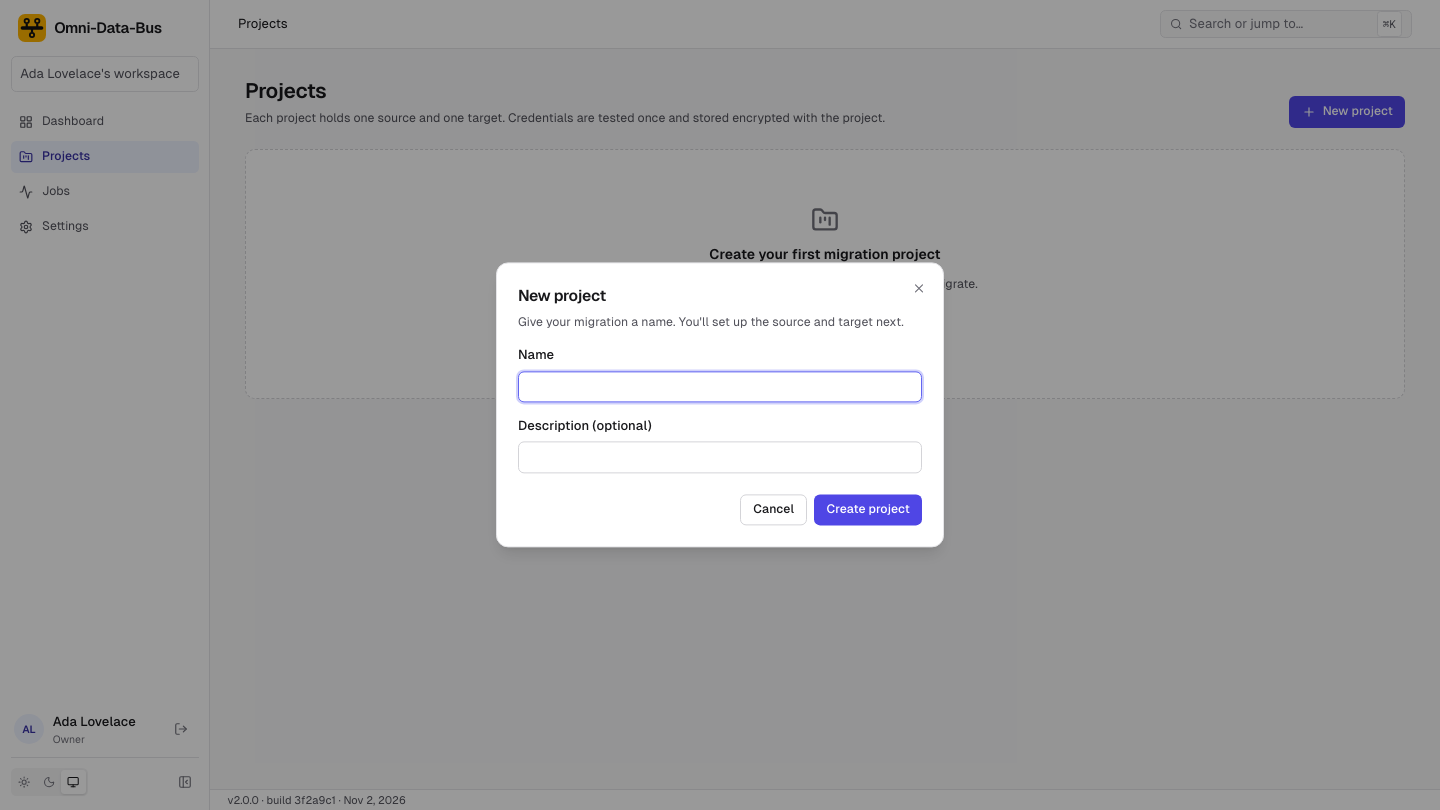
Test: NewProjectDialog › AC1: duplicate name shows the server field error
This screenshot has width=1440, height=810.
Type "Orders" into the field labelled "Name". click: (720, 387)
box: [518,371,922,402]
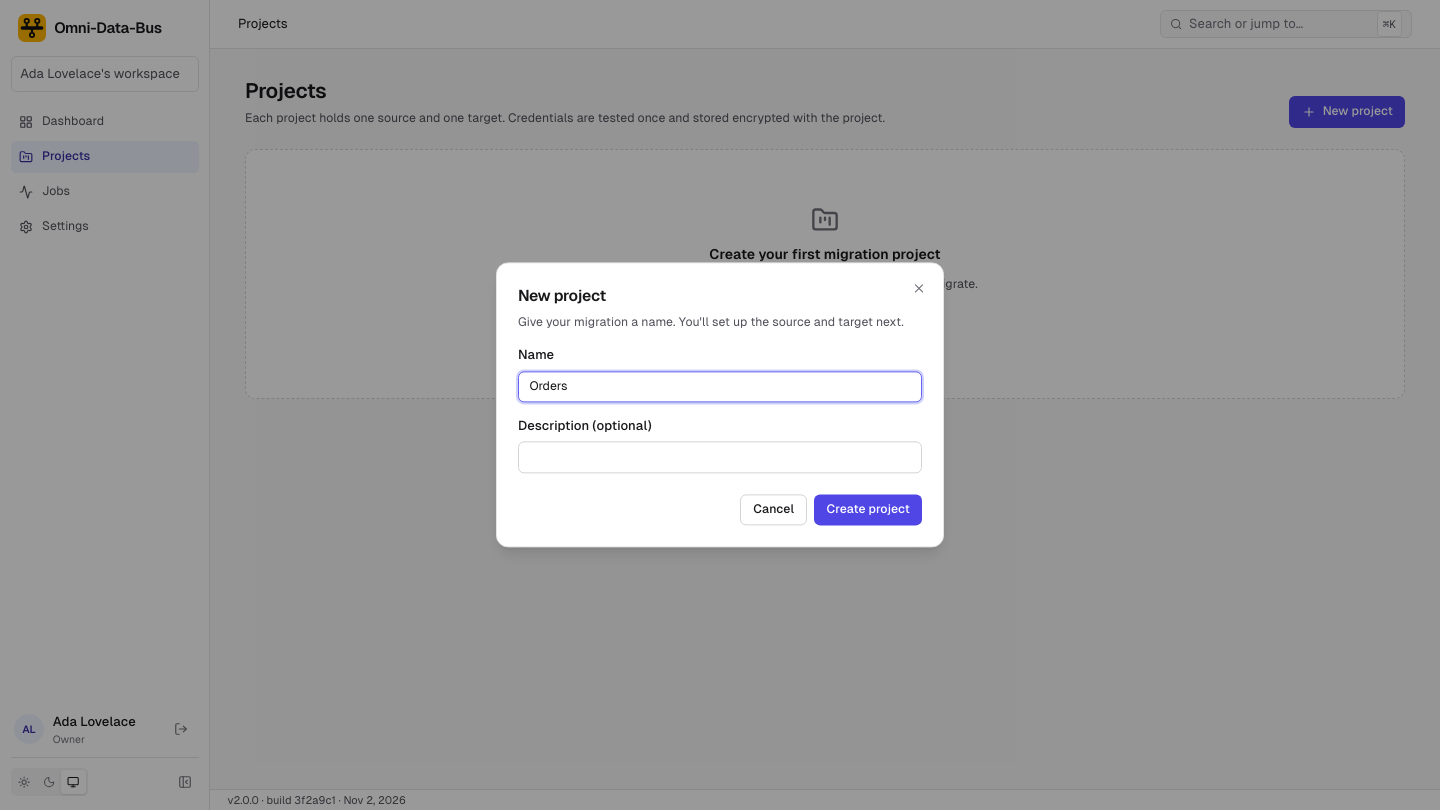
Click the button "Create project". click: (868, 510)
box: [814,494,922,526]
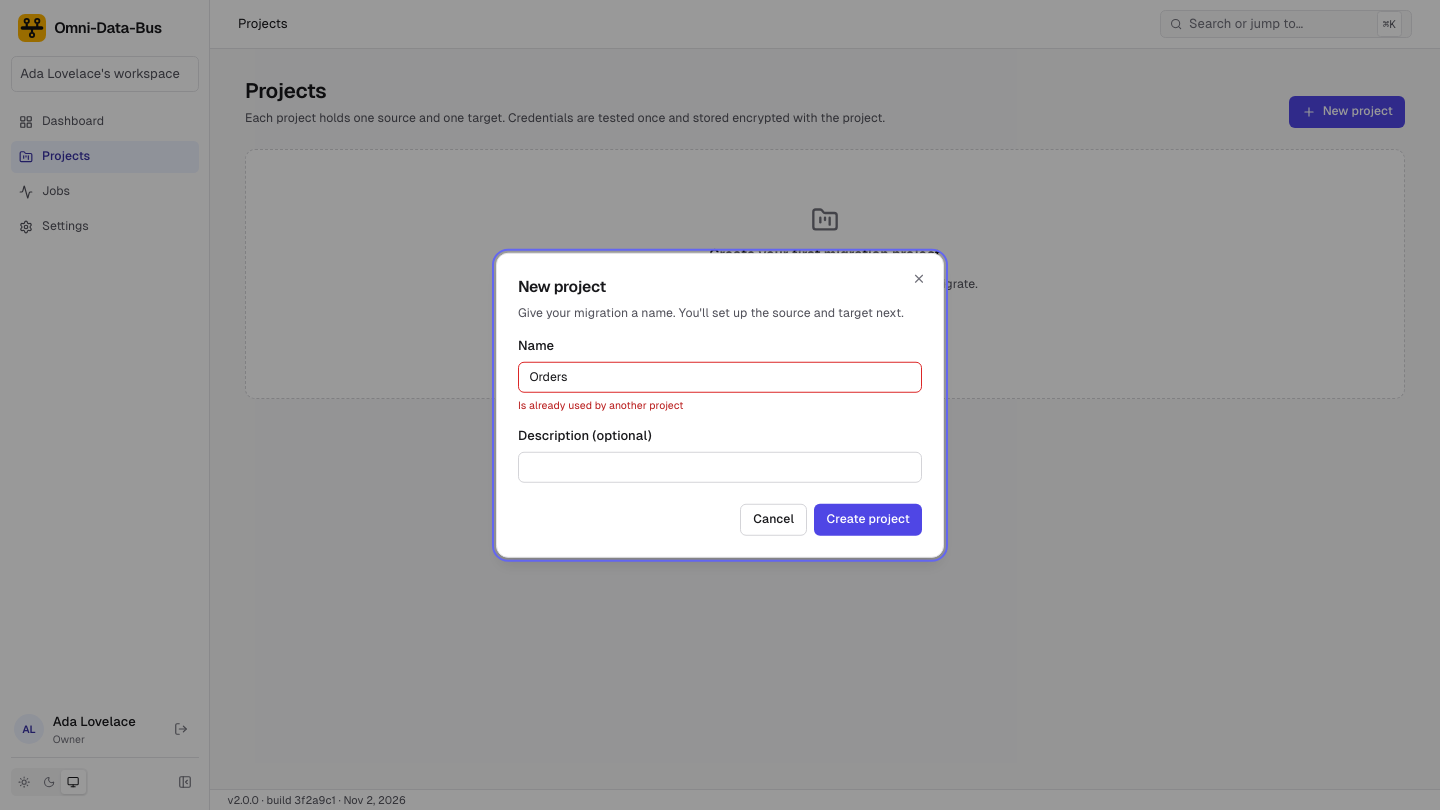
Expected: the text "Is already used by another project" is shown, [518,399,684,411]
